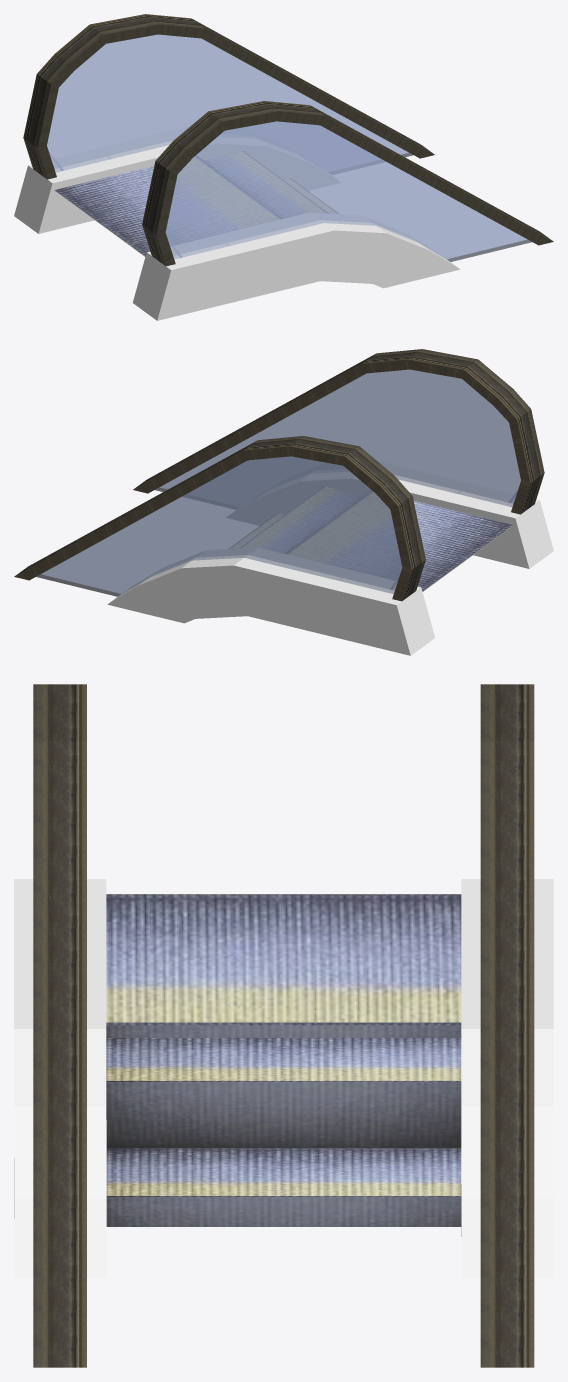
File: cut_escalator.glb
The picture shows the model from 3 angles, top to bottom: view 1: azimuth 30°, elevation 25°; view 2: azimuth 150°, elevation 25°; view 3: azimuth 270°, elevation 25°; orthographic projection. The views are drawn at different scales.
Visible parts, largest first — view 1: Plane.003; view 2: Plane.003; view 3: Plane.003.
Boxes of the visible parts, bbox=[...] form: Plane.003: bbox=[14, 14, 553, 320]; Plane.003: bbox=[14, 349, 553, 655]; Plane.003: bbox=[14, 684, 553, 1367].
Bounding box in the file's own units: 2.52 × 1.21 × 1.56.
5 materials, 3 textured.
